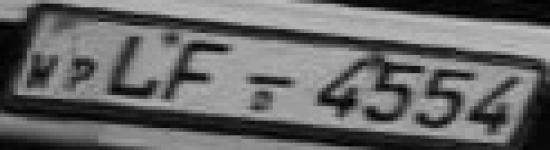-: (241, 71, 300, 92)
4: (468, 69, 522, 137), (313, 57, 366, 126)
5: (416, 64, 473, 131), (368, 60, 424, 124)
F: (162, 38, 237, 106)
L: (104, 31, 159, 100)
P: (64, 52, 100, 94)
W: (24, 47, 62, 93)
